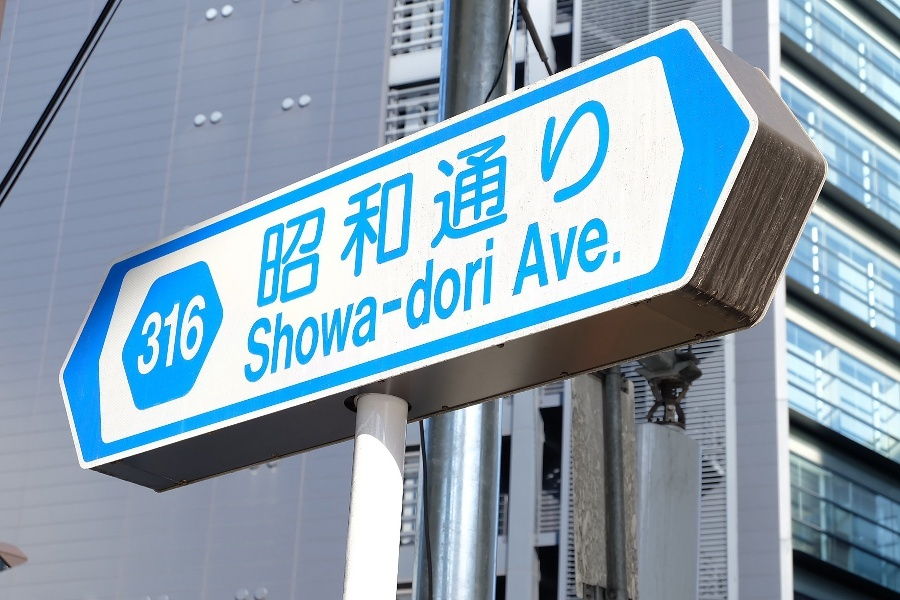text: (273, 96, 288, 315), (289, 96, 304, 315), (305, 96, 320, 315), (321, 96, 336, 315), (337, 96, 352, 315), (353, 96, 368, 315), (369, 96, 384, 315), (385, 96, 400, 315), (401, 96, 416, 315), (417, 96, 432, 315), (433, 96, 448, 315), (449, 96, 464, 315), (465, 96, 480, 315), (481, 96, 496, 315), (497, 96, 512, 315), (513, 96, 528, 315), (529, 96, 544, 315), (545, 96, 560, 315), (561, 96, 576, 315), (577, 96, 592, 315), (593, 96, 608, 315), (609, 96, 623, 315), (257, 237, 272, 388), (273, 237, 288, 388), (289, 237, 304, 388), (305, 237, 320, 388), (321, 237, 336, 388), (337, 237, 352, 388), (353, 237, 368, 388), (369, 237, 384, 388), (385, 237, 400, 388), (401, 237, 416, 388), (417, 237, 432, 388), (433, 237, 448, 388), (449, 237, 464, 388), (465, 237, 480, 388), (481, 237, 496, 388), (263, 96, 272, 315), (247, 237, 256, 388), (145, 290, 160, 378), (161, 290, 176, 378), (177, 290, 192, 378), (193, 290, 208, 378), (529, 215, 544, 300), (545, 215, 560, 300), (561, 215, 576, 300), (577, 215, 592, 300), (593, 215, 608, 300), (609, 215, 624, 300), (625, 215, 627, 300), (143, 290, 144, 378)
